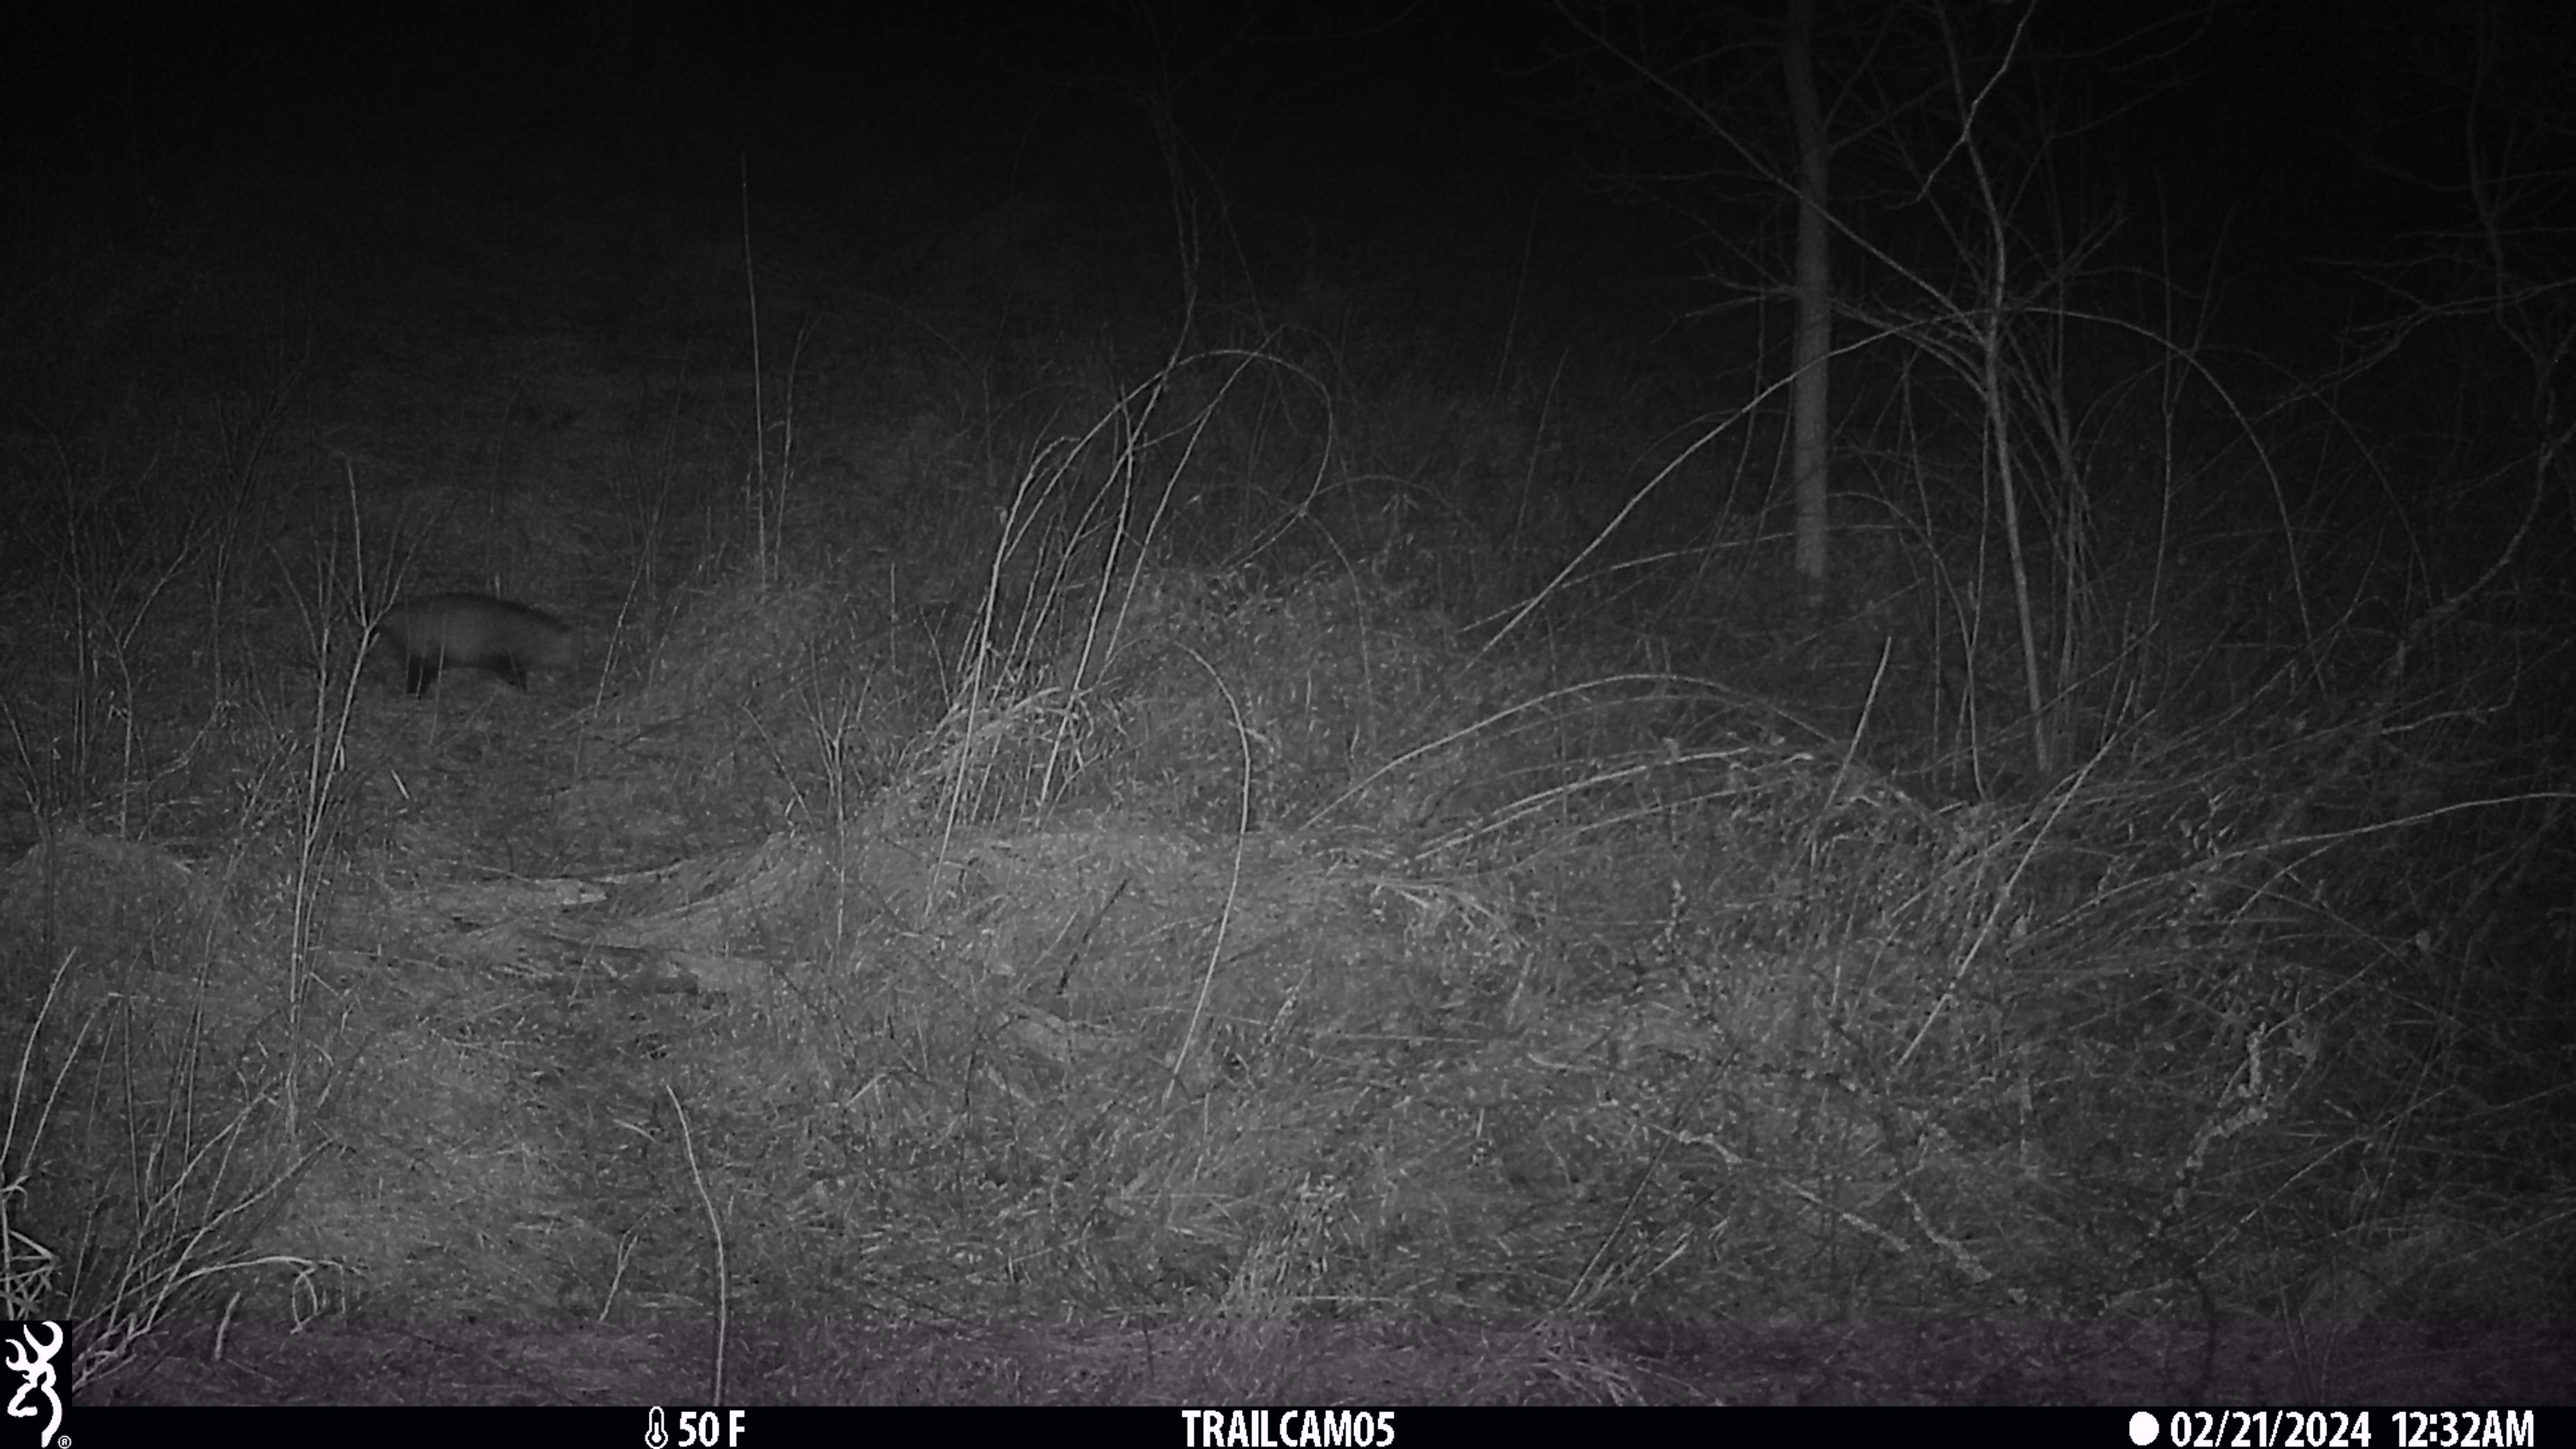Possum: (345, 584, 589, 692)
